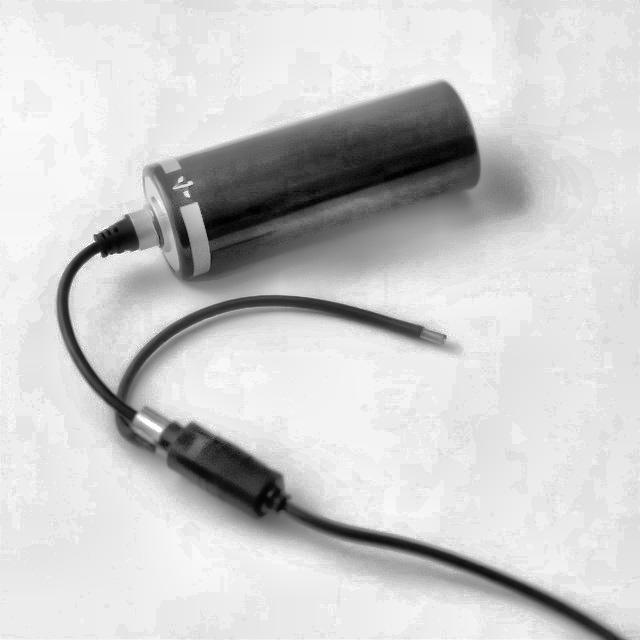Battery: (144, 72, 480, 282)
Cable: (58, 204, 624, 640)
